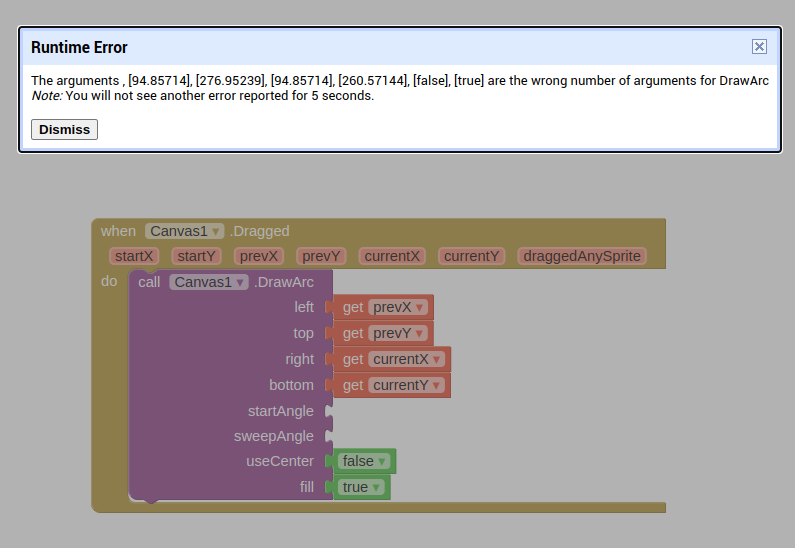bottles: (276, 98, 591, 311)
